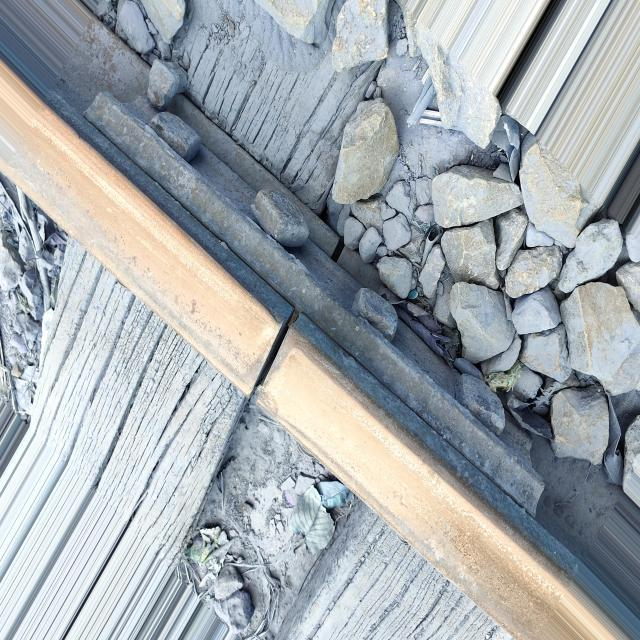Good Joint: (86, 94, 541, 511)
